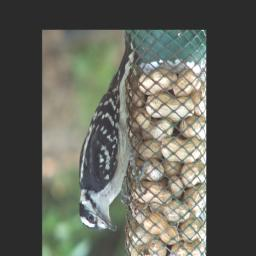Woodpecker: (69, 35, 148, 235)
